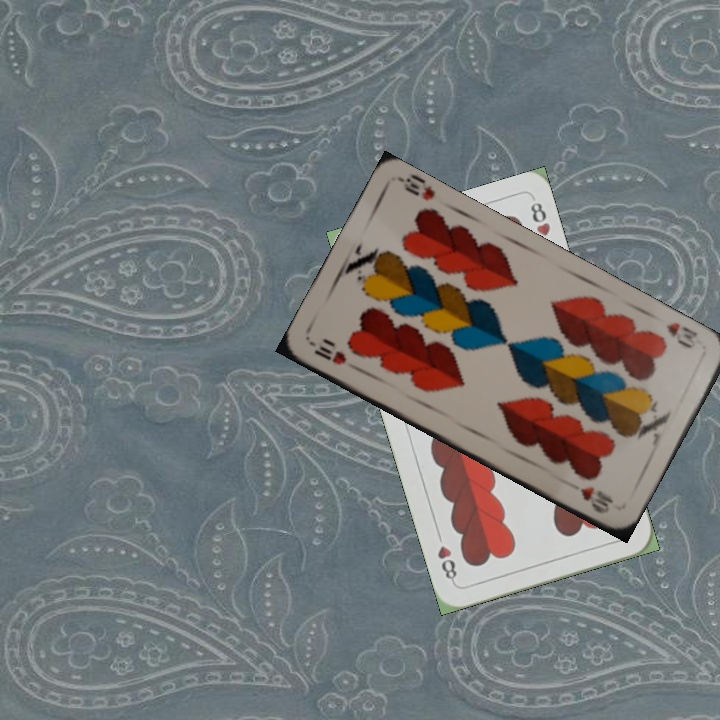H10: (661, 318, 704, 351), (310, 341, 349, 368)
